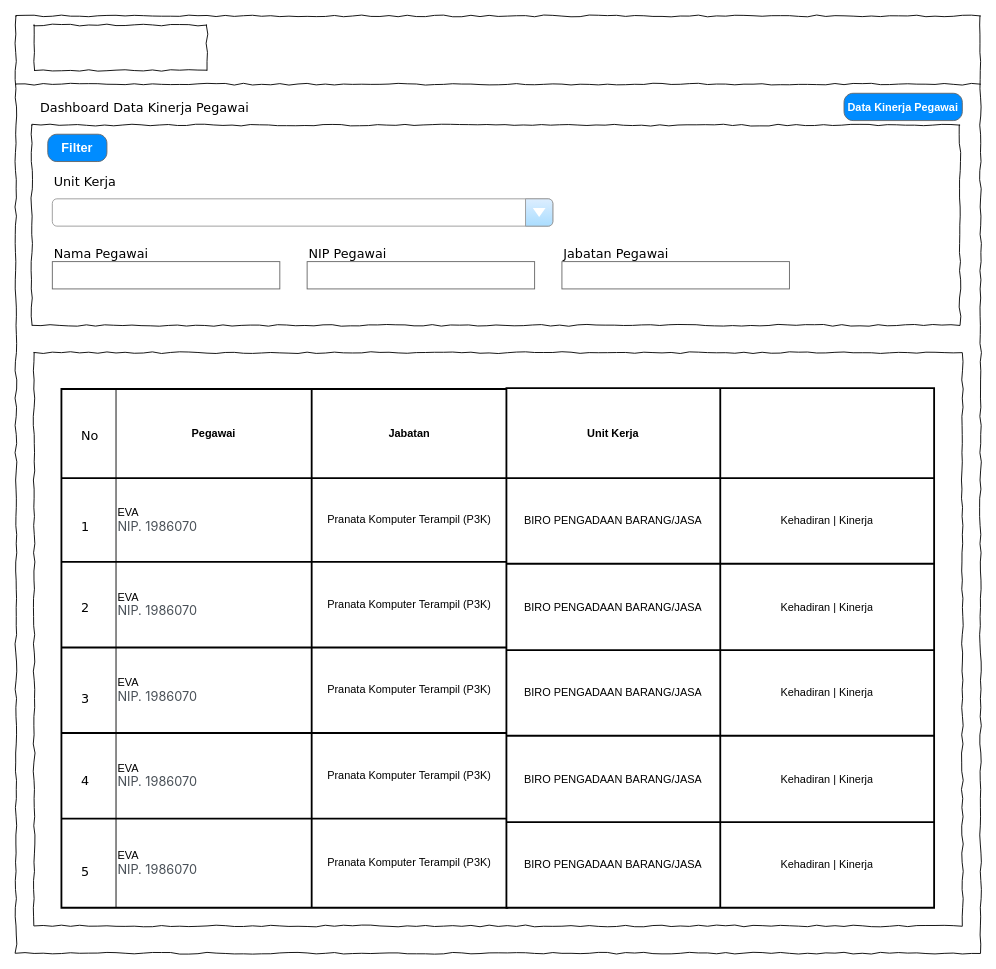
The diagram is 996 pixels wide and 969 high, and some of its shapes have lost their labels. The shapes that lost their labels are listed below. From the top down, each one's box as (x1, y1, x2, y2) in pixels, then its label:
(33, 24, 207, 71): LOGO
(51, 198, 553, 226): --Piih--
